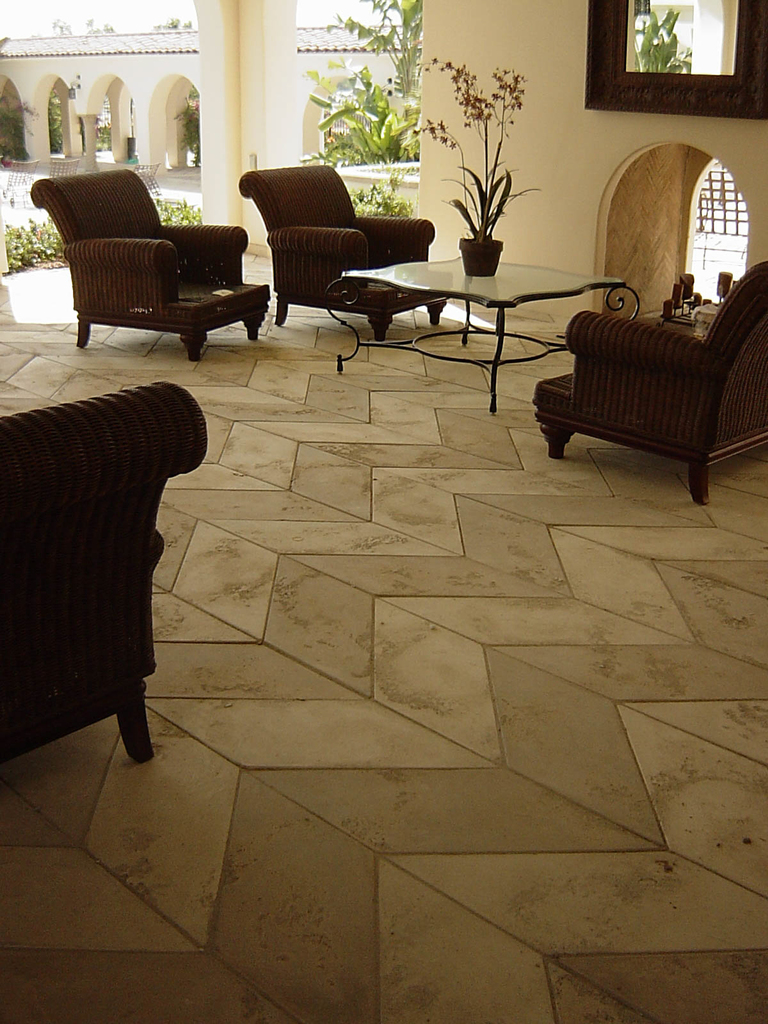Chair: (0, 376, 212, 767), (534, 267, 767, 507), (29, 159, 275, 356), (236, 166, 449, 342)
